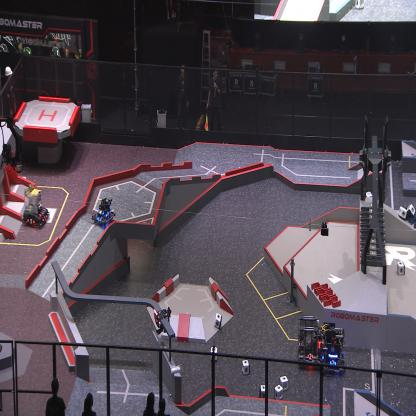car: (319, 322, 346, 376), (21, 185, 50, 230), (297, 314, 320, 365), (91, 196, 116, 228)
